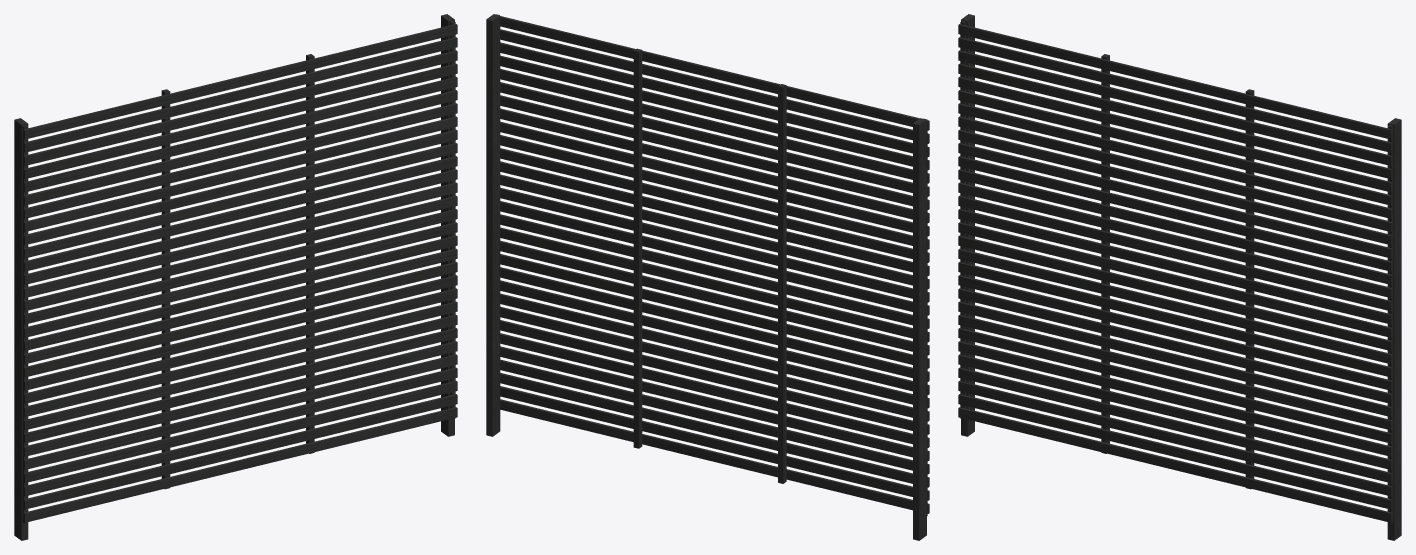
File: EAdesignunitborder_h1835-w1999_chacoalgrey.fbx
3 views of the same model, side by side, from view 1: azimuth 30°, elevation 25°; view 2: azimuth 150°, elevation 25°; view 3: azimuth 330°, elevation 25° (orthographic).
Visible parts, largest first — view 1: EAdesignunitborder_h1835-w1999_chacoalgray; view 2: EAdesignunitborder_h1835-w1999_chacoalgray; view 3: EAdesignunitborder_h1835-w1999_chacoalgray.
Part boxes in pixels (x1,y1,x2,y2): EAdesignunitborder_h1835-w1999_chacoalgray: (14, 14, 457, 540); EAdesignunitborder_h1835-w1999_chacoalgray: (486, 14, 929, 540); EAdesignunitborder_h1835-w1999_chacoalgray: (958, 14, 1401, 540).
Size of the model in its own units: 200 by 183 by 8.4.
1 material, 1 textured.
